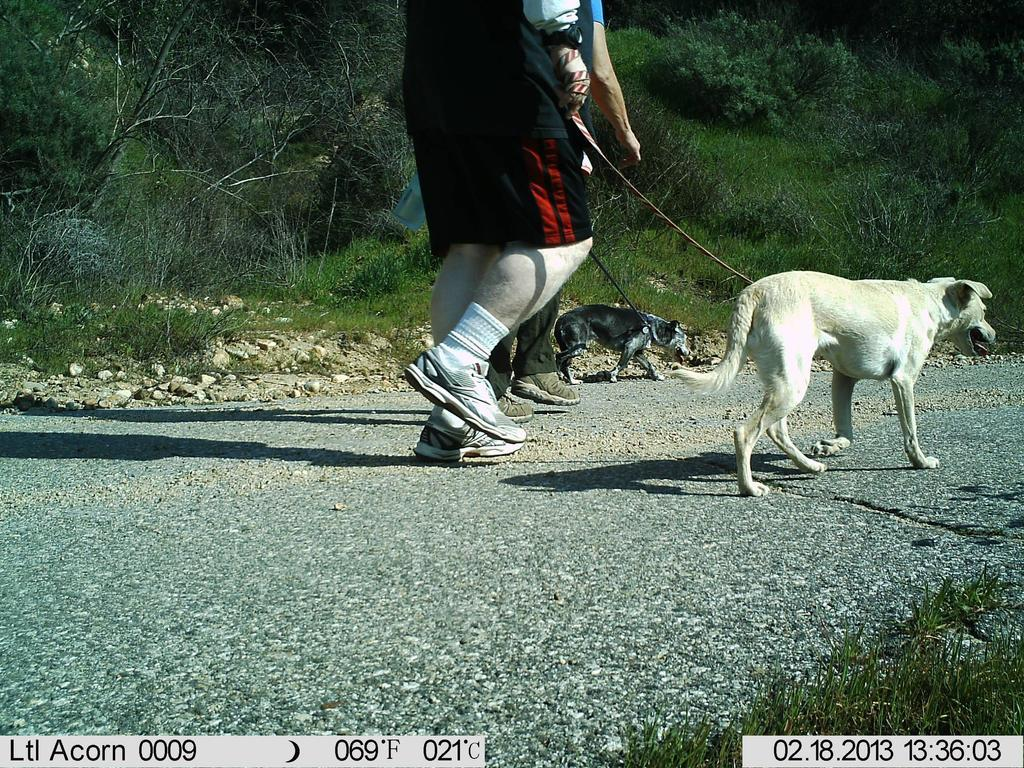dog: (669, 257, 1001, 513), (559, 293, 697, 395)
